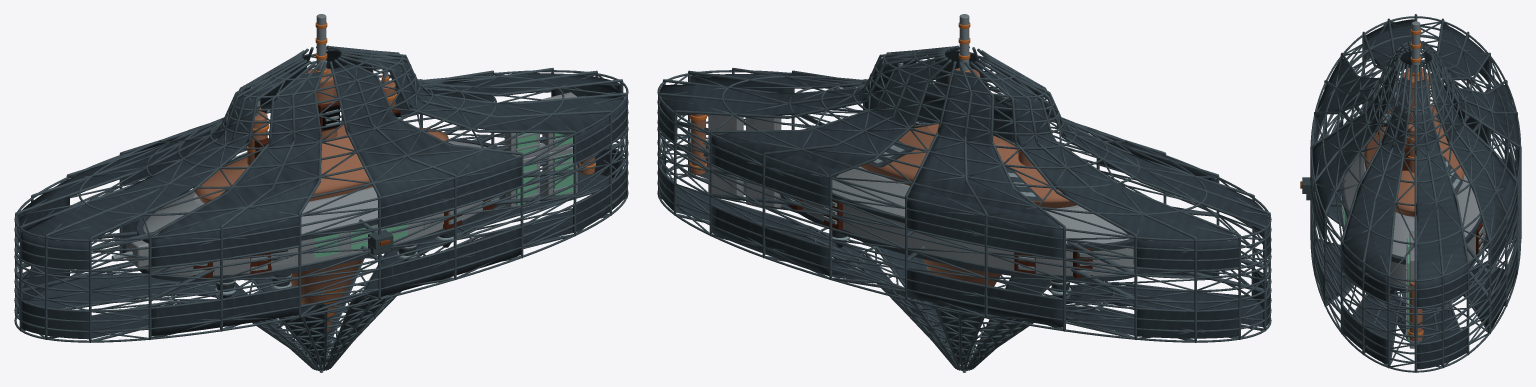
3 views of the same model, side by side, from view 1: azimuth 30°, elevation 25°; view 2: azimuth 150°, elevation 25°; view 3: azimuth 270°, elevation 25° (orthographic). The views are drawn at different scales.
Parts seen in each view (by area): view 1: MN5C construction horizontal hoops, MN5C construction meridian ribs, MN5C construction diagonal lattice, MN5C temporary grey shield 1 5, MN5C temporary grey shield 1 6, MN5C temporary grey shield 1 4, MN5C temporary grey shield 1 7, Orbital broad casing, MN5C temporary grey shield -1 5, MN5C temporary grey shield -1 6, MN5C temporary grey shield -1 3, Orbital copper upper shell (+12 smaller); view 2: MN5C construction horizontal hoops, MN5C construction meridian ribs, MN5C construction diagonal lattice, MN5C temporary grey shield 1 2, MN5C temporary grey shield 1 3, MN5C temporary grey shield 1 1, Orbital broad casing, MN5C temporary grey shield -1 2, MN5C temporary grey shield 1 0, MN5C temporary grey shield 1 4, MN5C temporary grey shield -1 3, MN5C temporary grey shield -1 1 (+15 smaller); view 3: MN5C construction horizontal hoops, MN5C construction meridian ribs, MN5C construction diagonal lattice, MN5C temporary grey shield 1 0, MN5C temporary grey shield 1 7, MN5C temporary grey shield 1 1, MN5C temporary grey shield 1 6, Orbital broad casing, MN5C temporary grey shield -1 7, MN5C temporary grey shield -1 0, MN5C temporary grey shield 1 2, MN5C temporary grey shield 1 3 (+13 smaller).
Boxes of the visible parts, box(x1,y1,x2,y2) form: MN5C construction horizontal hoops: box(14, 50, 628, 365); MN5C construction meridian ribs: box(15, 45, 627, 371); MN5C construction diagonal lattice: box(15, 52, 626, 363); MN5C temporary grey shield 1 5: box(151, 72, 320, 266); MN5C temporary grey shield 1 6: box(334, 64, 521, 226); MN5C temporary grey shield 1 4: box(21, 72, 290, 269); MN5C temporary grey shield 1 7: box(357, 55, 626, 162); Orbital broad casing: box(143, 141, 486, 275); MN5C temporary grey shield -1 5: box(151, 285, 325, 364); MN5C temporary grey shield -1 6: box(330, 225, 521, 362); MN5C temporary grey shield -1 3: box(17, 267, 300, 348); Orbital copper upper shell: box(194, 125, 448, 203); MN5C construction horizontal hoops: box(657, 50, 1271, 365); MN5C construction meridian ribs: box(658, 45, 1270, 371); MN5C construction diagonal lattice: box(659, 52, 1270, 363); MN5C temporary grey shield 1 2: box(907, 69, 1062, 258); MN5C temporary grey shield 1 3: box(986, 73, 1238, 269); MN5C temporary grey shield 1 1: box(711, 61, 942, 206); Orbital broad casing: box(803, 166, 1138, 275); MN5C temporary grey shield -1 2: box(907, 268, 1062, 364); MN5C temporary grey shield 1 0: box(659, 52, 924, 141); MN5C temporary grey shield 1 4: box(1004, 67, 1270, 257); MN5C temporary grey shield -1 3: box(972, 307, 1238, 363); MN5C temporary grey shield -1 1: box(711, 204, 952, 360); MN5C construction horizontal hoops: box(1310, 16, 1521, 372); MN5C construction meridian ribs: box(1310, 14, 1521, 371); MN5C construction diagonal lattice: box(1312, 21, 1518, 367); MN5C temporary grey shield 1 0: box(1416, 79, 1467, 306); MN5C temporary grey shield 1 7: box(1342, 77, 1409, 301); MN5C temporary grey shield 1 1: box(1431, 69, 1517, 266); MN5C temporary grey shield 1 6: box(1311, 65, 1399, 238); Orbital broad casing: box(1342, 148, 1485, 286); MN5C temporary grey shield -1 7: box(1342, 295, 1405, 364); MN5C temporary grey shield -1 0: box(1417, 304, 1467, 369); MN5C temporary grey shield 1 2: box(1434, 56, 1518, 166); MN5C temporary grey shield 1 3: box(1422, 24, 1488, 81).
Size of the model in its own units: 6.13 by 3.46 by 2.16.
Materials: 14 (10 with a texture image).
